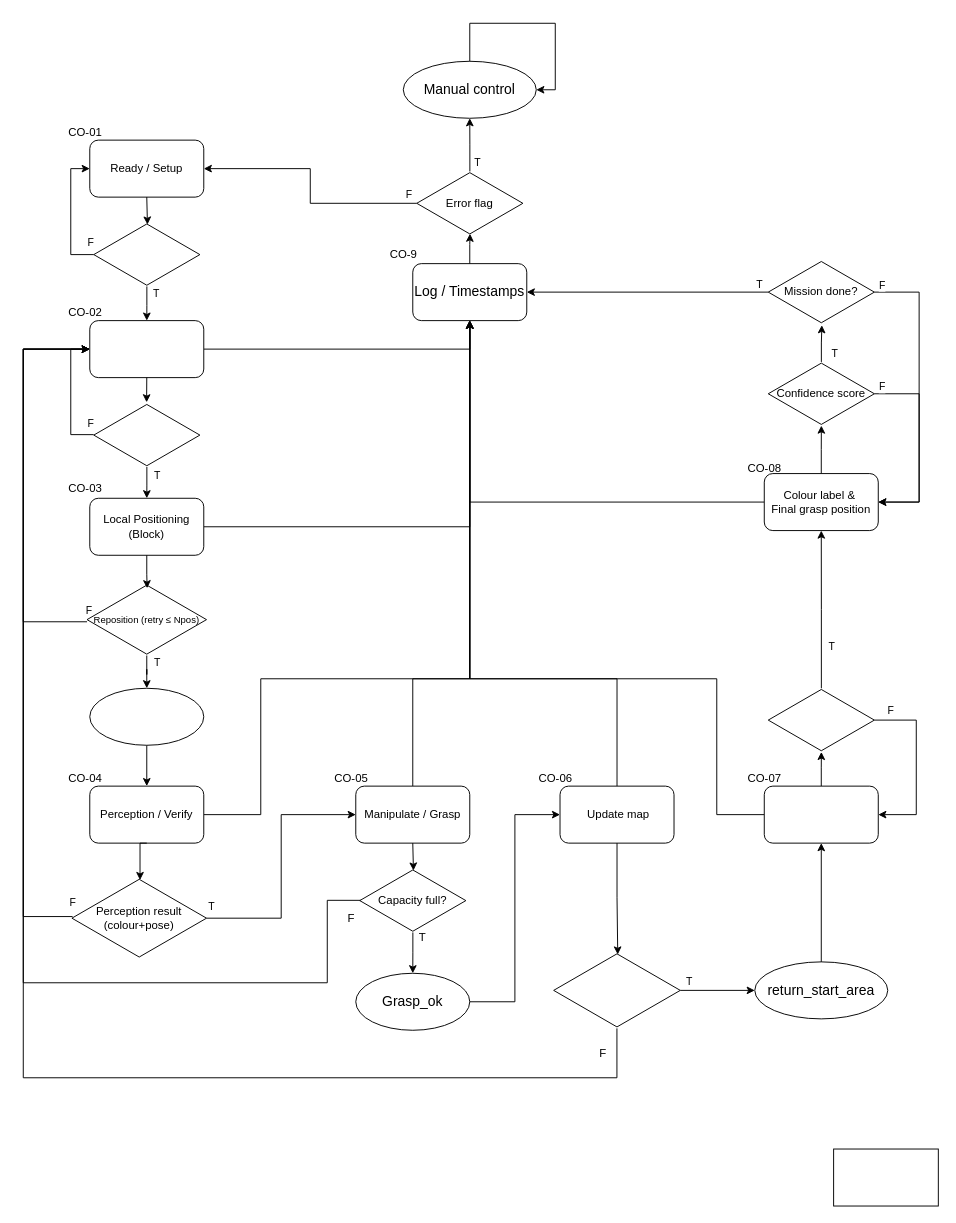
Image size: 956x1223. Some labels were removed from this diagram. The shapes that lost their labels are listed below. From the top down, each one's centre as x and y in pixels, then its label:
(x=146, y=254): Start Cmd
(x=146, y=349): Nav / Map Update
(x=146, y=434): Candidate objects
(x=146, y=716): refined_pose_OK
(x=820, y=719): Reposition
(x=820, y=814): Bin Approach
(x=616, y=989): Capacity & mission policy
(x=885, y=1177): Note: T: True F: False
